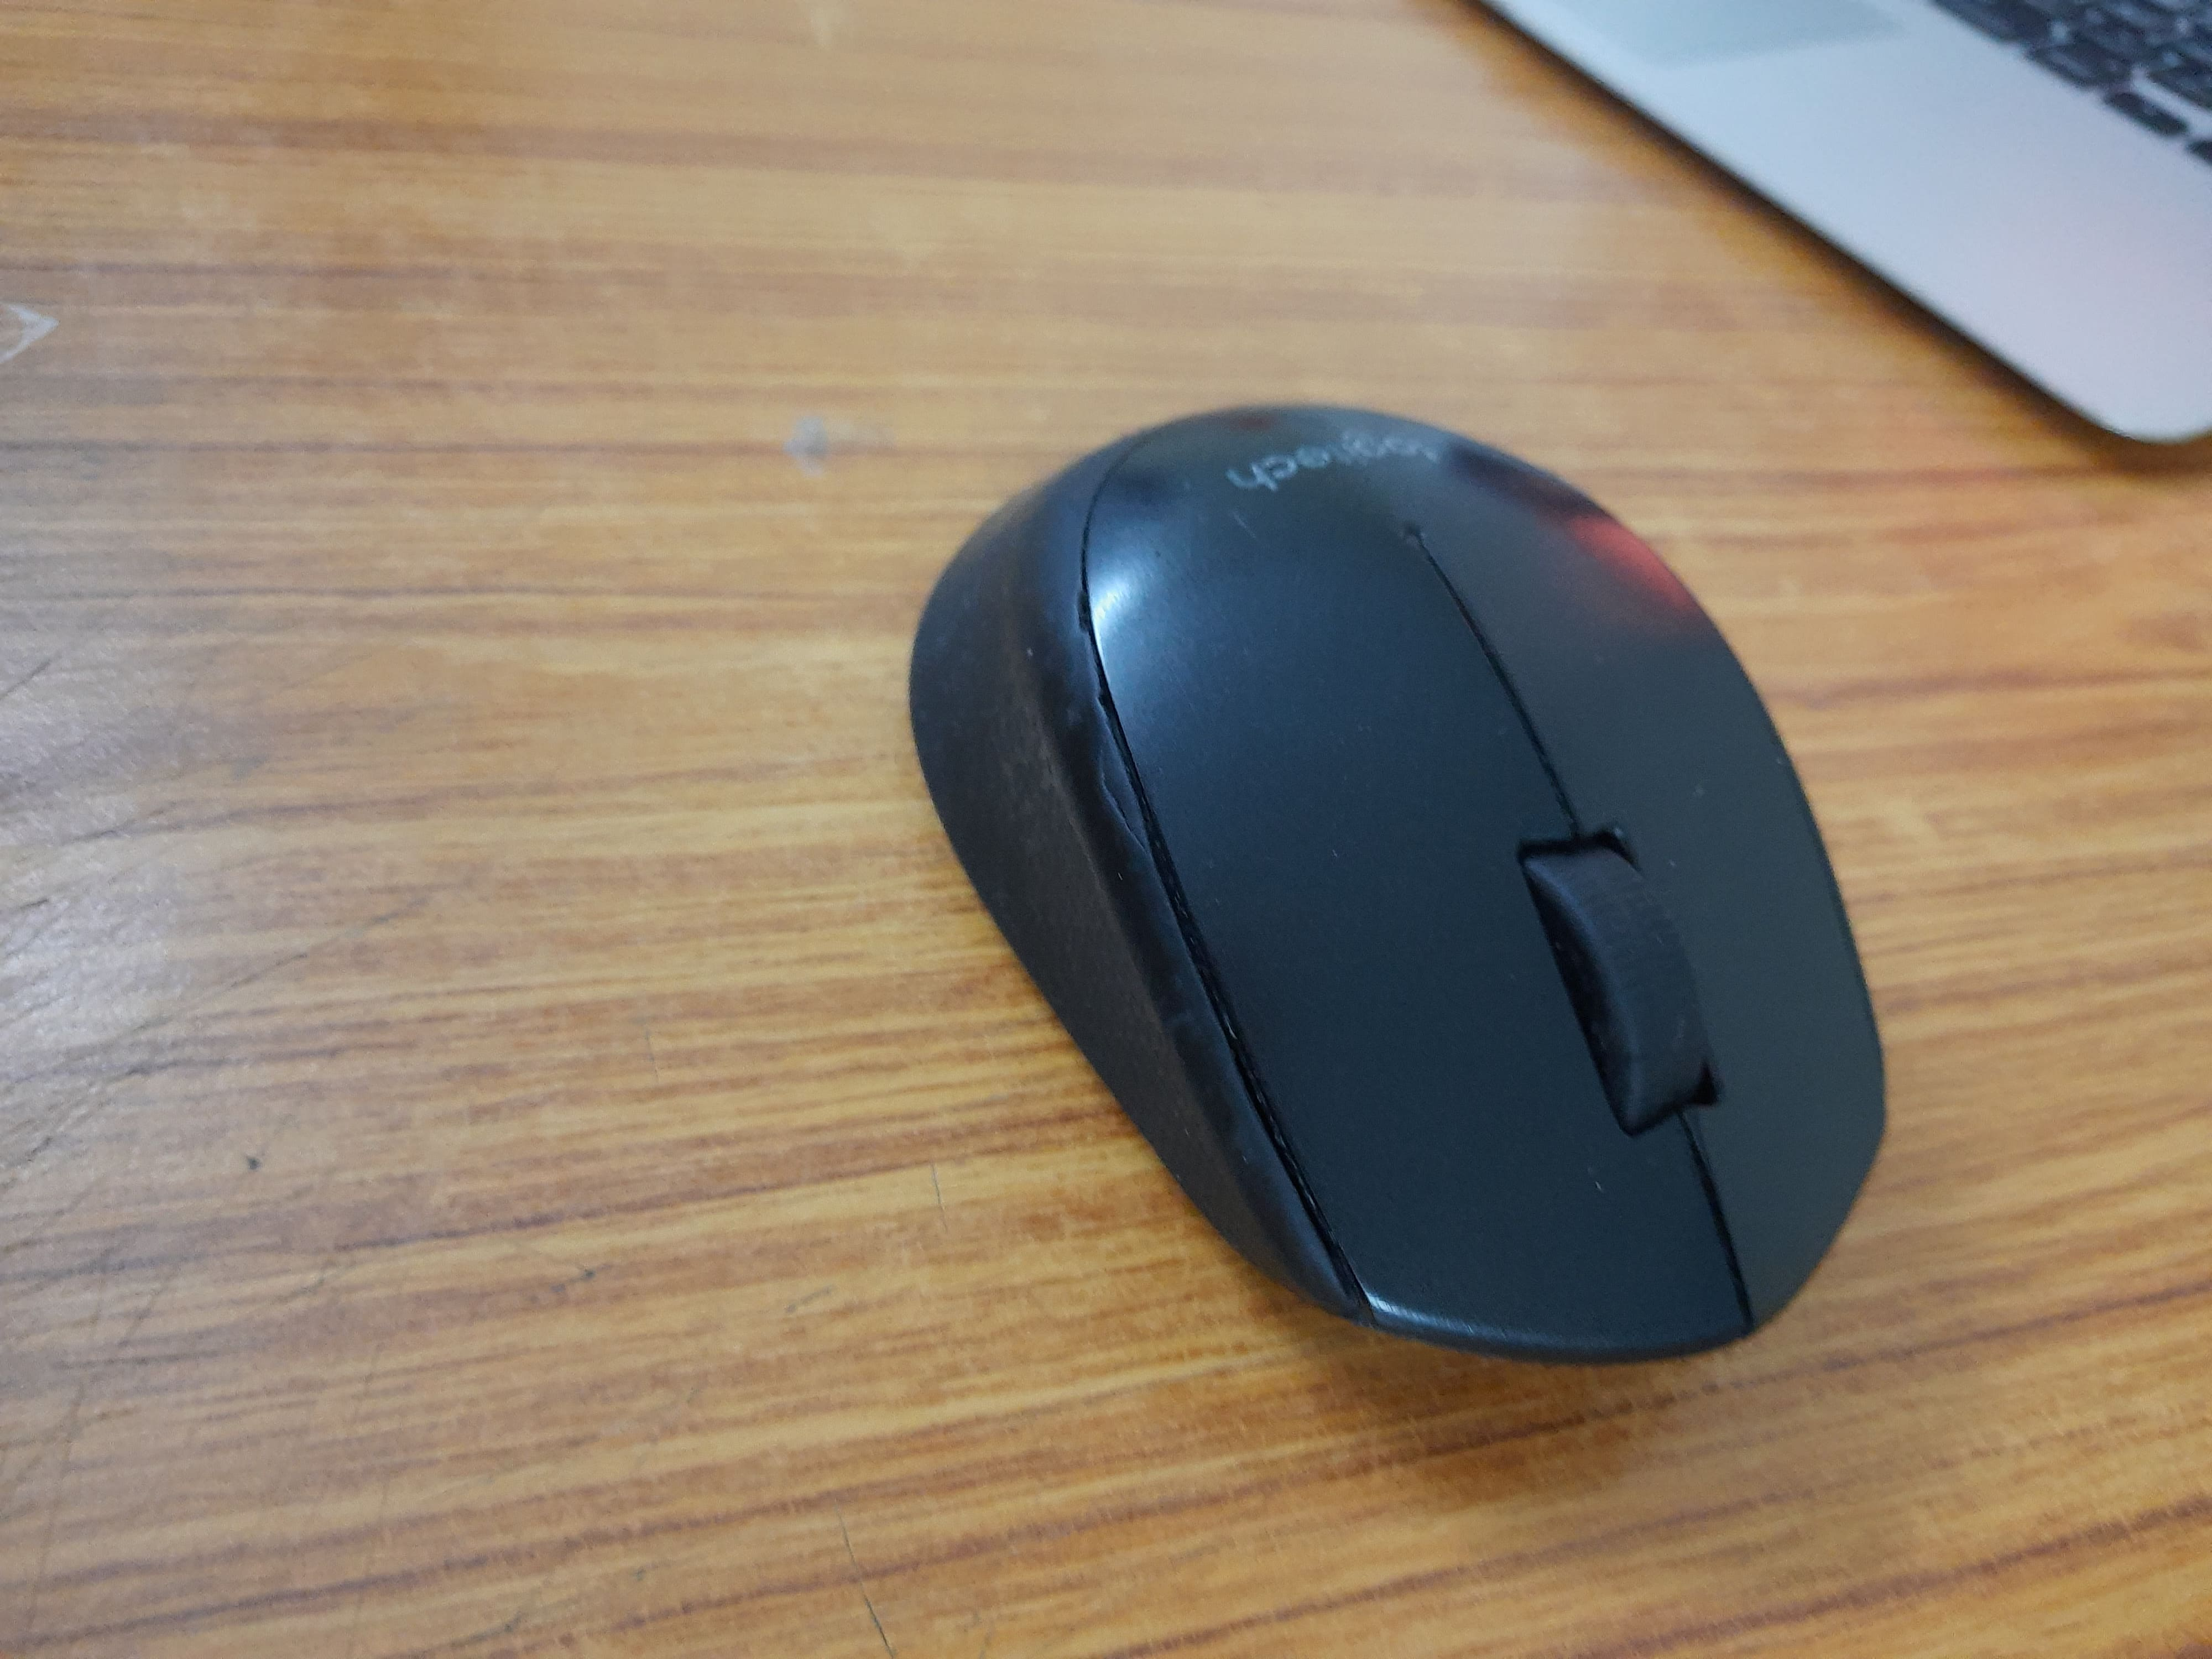Vikash's Mouse: (897, 397, 1895, 1364)
